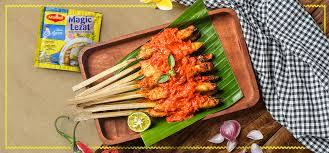sate: (131, 13, 248, 127)
